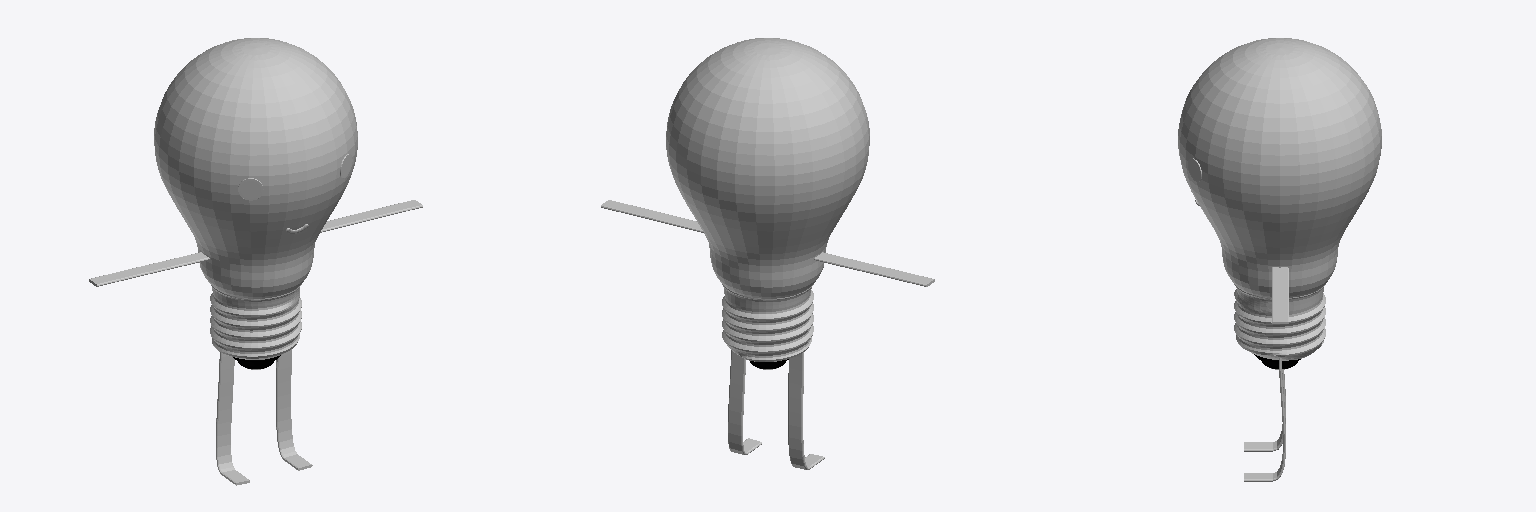
Rendered from Lightbulb.obj.
3 renders of one model, left to right at view 1: azimuth 30°, elevation 25°; view 2: azimuth 150°, elevation 25°; view 3: azimuth 270°, elevation 25°, orthographic.
Parts seen in each view (by area): view 1: Bulb_Cone, MetalScrew_Plane.001, Legs_BezierCurve.001, Arms_BezierCurve.002, Eyes_Circle.004; view 2: Bulb_Cone, MetalScrew_Plane.001, Legs_BezierCurve.001, Arms_BezierCurve.002; view 3: Bulb_Cone, MetalScrew_Plane.001, Legs_BezierCurve.001, Arms_BezierCurve.002.
Part boxes in pixels (left/top/right/bottom): Bulb_Cone: left=154, top=38, right=357, bottom=298; MetalScrew_Plane.001: left=210, top=284, right=301, bottom=359; Legs_BezierCurve.001: left=216, top=349, right=312, bottom=485; Arms_BezierCurve.002: left=89, top=200, right=422, bottom=286; Eyes_Circle.004: left=238, top=154, right=352, bottom=200; Bulb_Cone: left=666, top=38, right=869, bottom=298; MetalScrew_Plane.001: left=722, top=284, right=813, bottom=361; Legs_BezierCurve.001: left=728, top=350, right=824, bottom=469; Arms_BezierCurve.002: left=601, top=200, right=934, bottom=286; Bulb_Cone: left=1178, top=38, right=1381, bottom=297; MetalScrew_Plane.001: left=1234, top=284, right=1325, bottom=360; Legs_BezierCurve.001: left=1244, top=358, right=1285, bottom=481; Arms_BezierCurve.002: left=1272, top=267, right=1288, bottom=323.
Bounding box in the file's own units: 5.2 × 6.33 × 2.82.